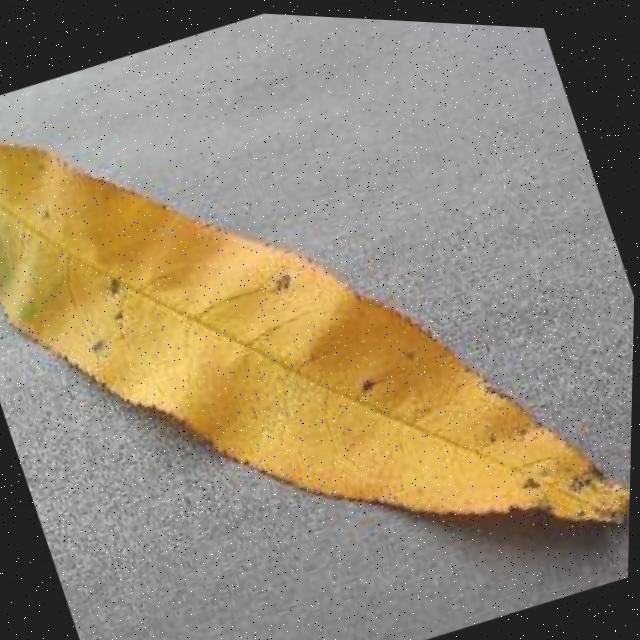Bacterial_spot: (80, 253, 152, 345), (241, 244, 307, 316), (59, 310, 125, 375), (339, 356, 392, 419), (497, 456, 554, 508)
